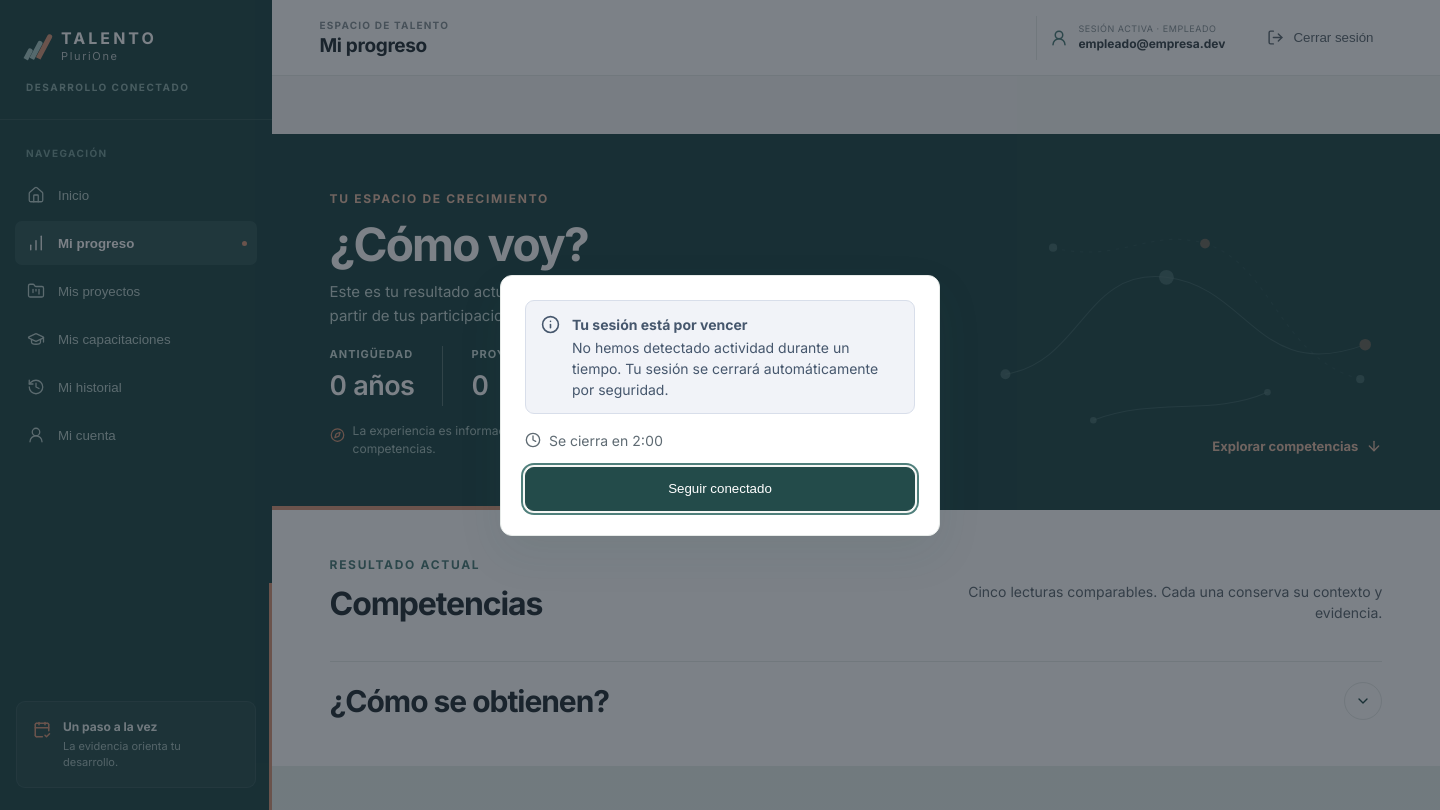
sesión por inactividad (Bloque F) › una renovación con 401 cierra la sesión y NO intenta revivirla
The width and height of the screenshot is (1440, 810).
Step 1. Click the button "Seguir conectado" → coordinates (720, 488), box top-left (525, 466), bottom-right (915, 510)
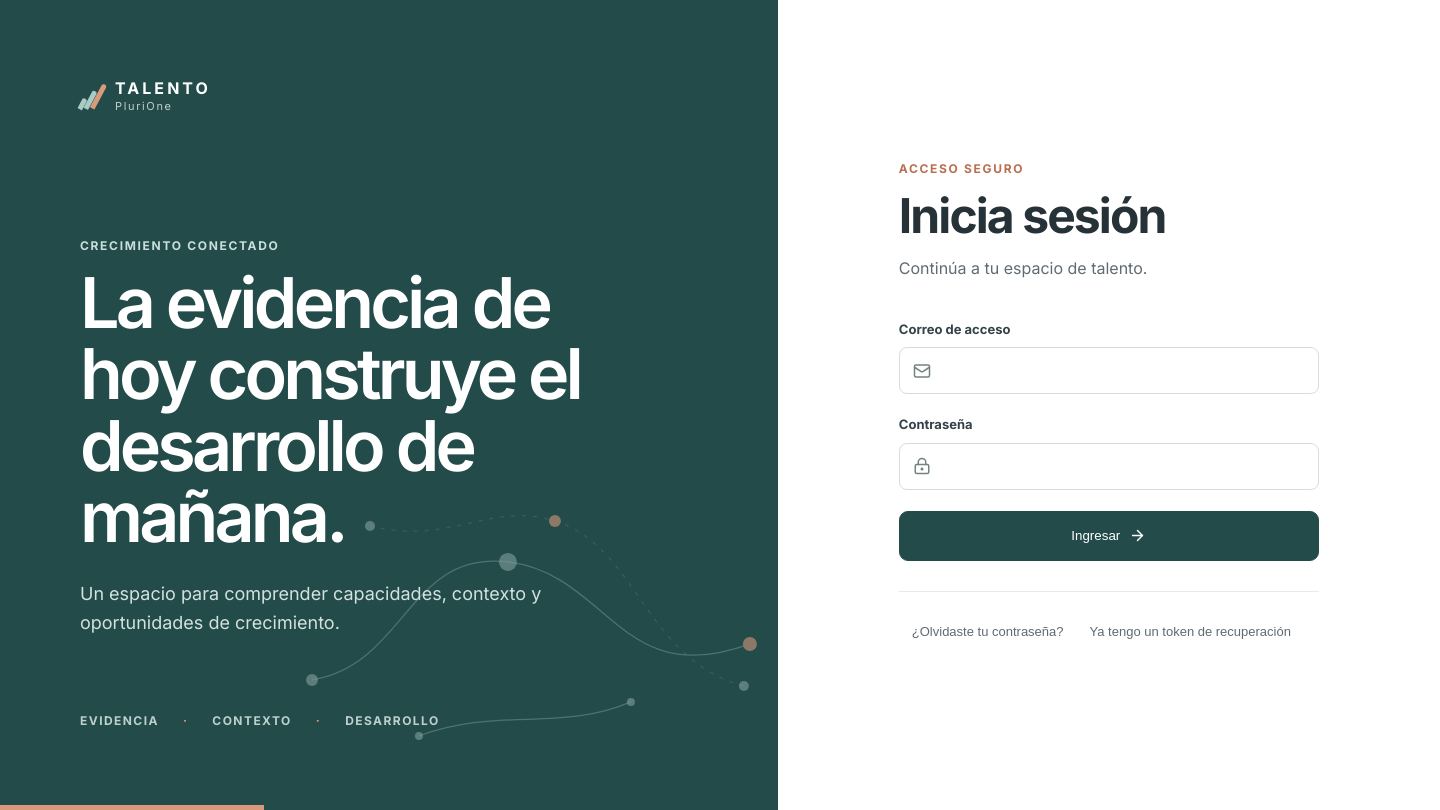
Check: the text "Acceso seguro" is shown, box top-left (899, 161), bottom-right (1024, 176)
